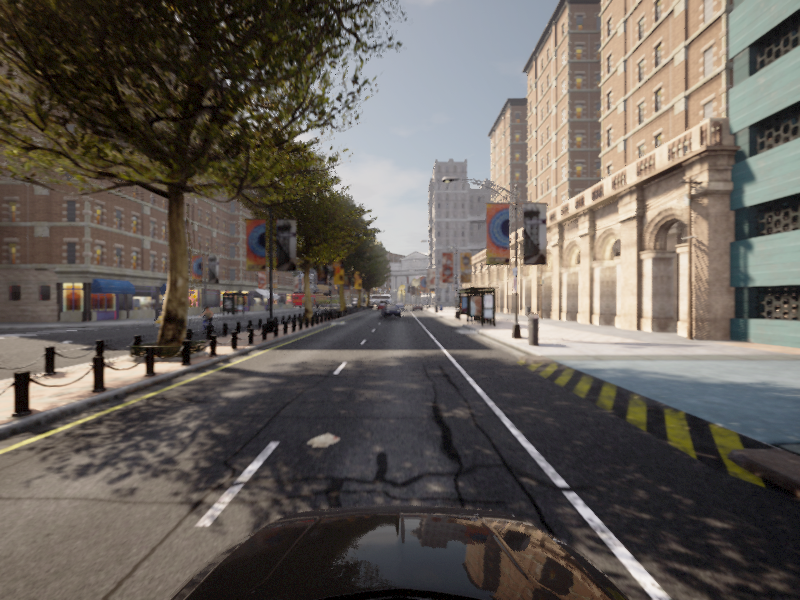vehicle: (1, 1, 799, 599), (150, 305, 183, 328), (193, 306, 220, 334), (380, 305, 402, 318)
